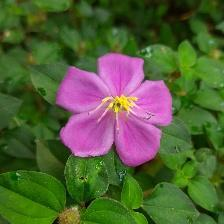malabar melastome: (55, 52, 174, 169)
